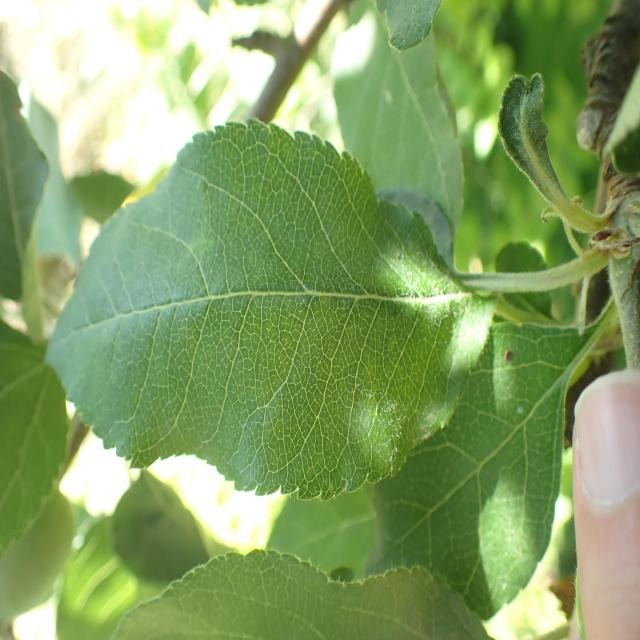healthy: (44, 119, 497, 502), (370, 320, 600, 619), (113, 548, 493, 640), (0, 320, 69, 558), (0, 70, 50, 300)
